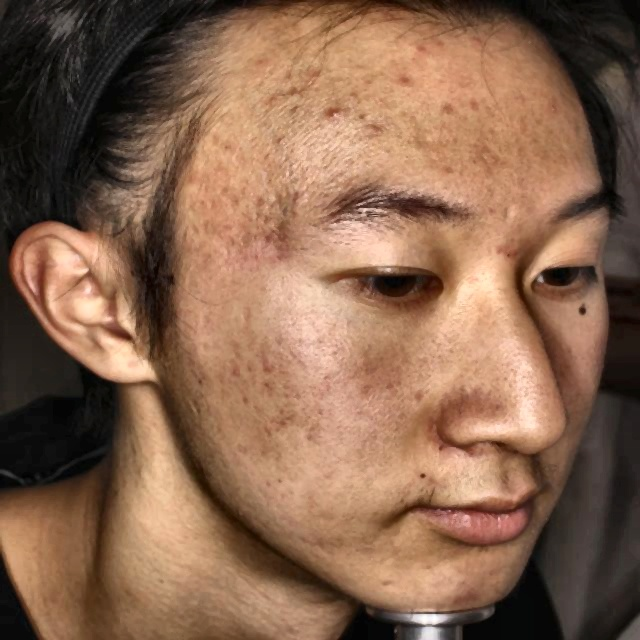pustule: (495, 238, 524, 275), (385, 70, 421, 98), (311, 103, 350, 125), (251, 49, 273, 82), (472, 37, 491, 59), (432, 37, 450, 59), (308, 67, 326, 89), (410, 46, 431, 58)
